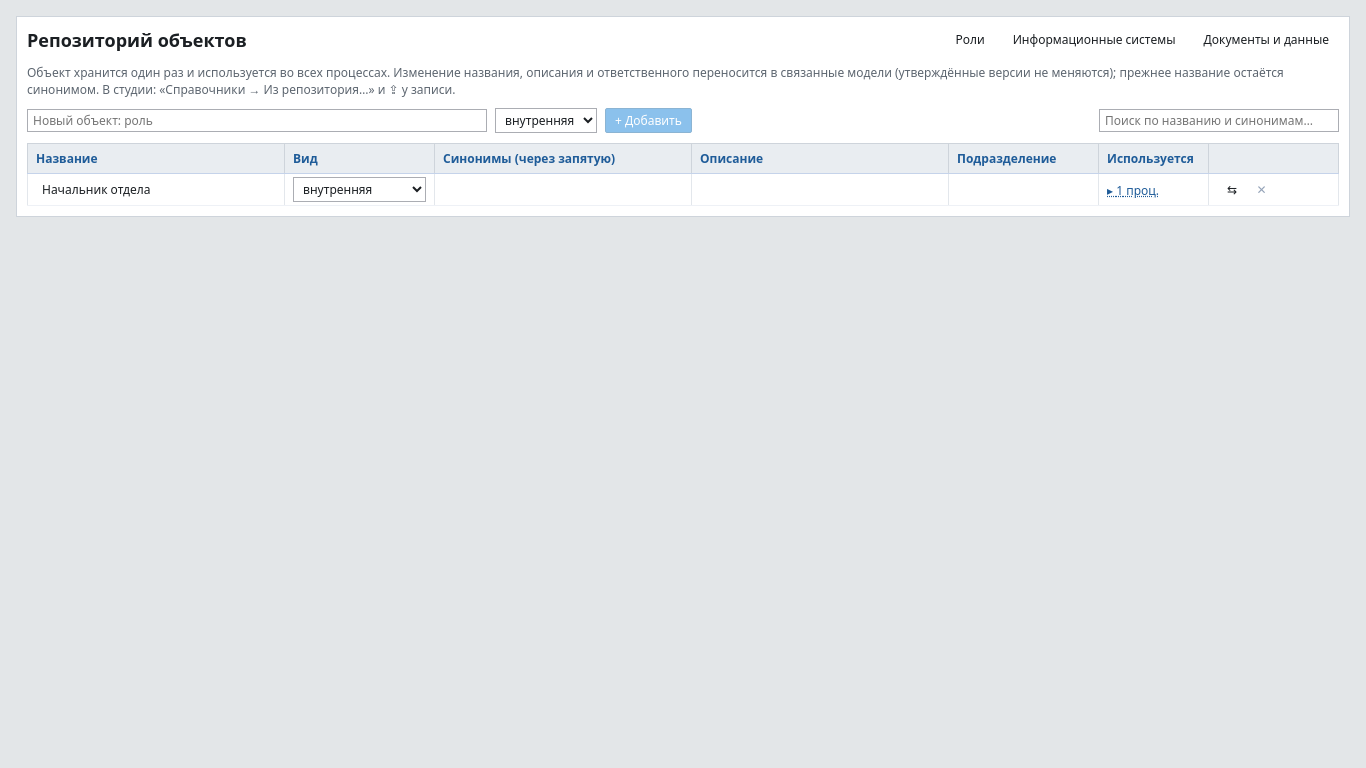
Test: репозиторий: слияние и удаление через диалог › единственный объект: заменить нечем — окно объясняет, что делать
The image size is (1366, 768).
expect the 1st field showing "Начальник отдела" is shown: met, box [36,178,276,201]
Click the button titled "Удалить": (1262, 190) [1250,179,1273,200]
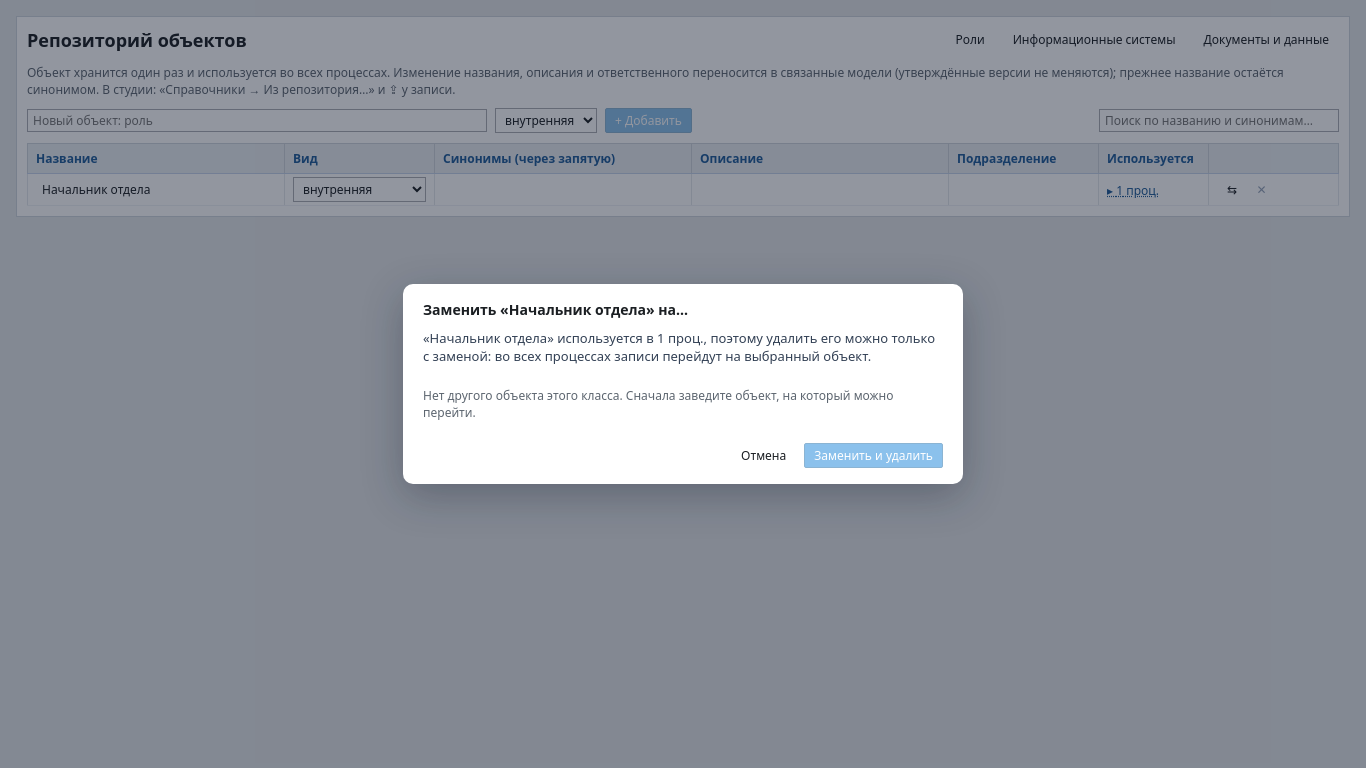
expect the text "Нет другого объекта этого класса" is shown: met, box [423,387,894,421]
expect the button "Заменить и удалить" is disabled: met, box [804,443,943,468]
